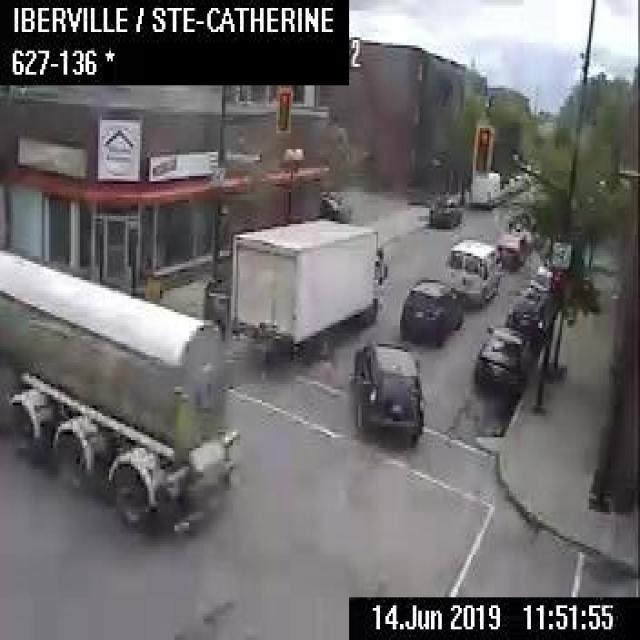vehicle: (0, 245, 240, 536), (229, 215, 386, 367), (352, 337, 423, 443), (397, 275, 465, 345), (444, 237, 503, 306), (472, 323, 530, 388), (504, 283, 552, 343), (467, 168, 499, 205), (317, 187, 351, 220), (428, 193, 462, 226), (495, 230, 526, 264), (528, 263, 550, 289)
